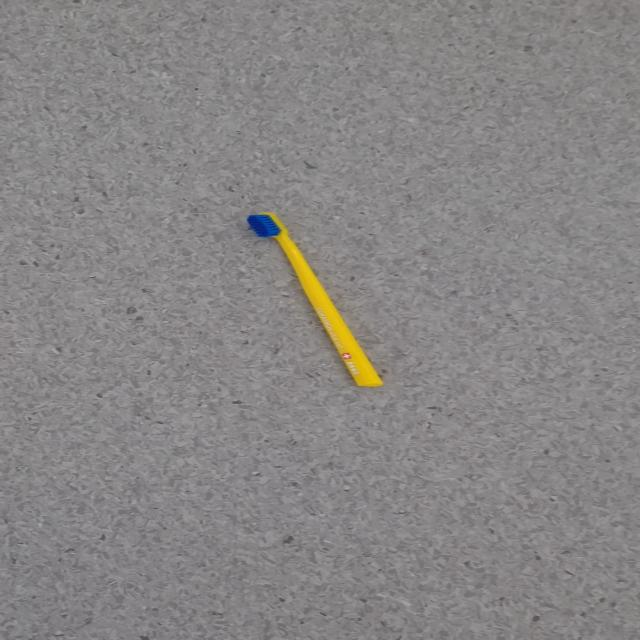toothbrush: (245, 211, 384, 388)
